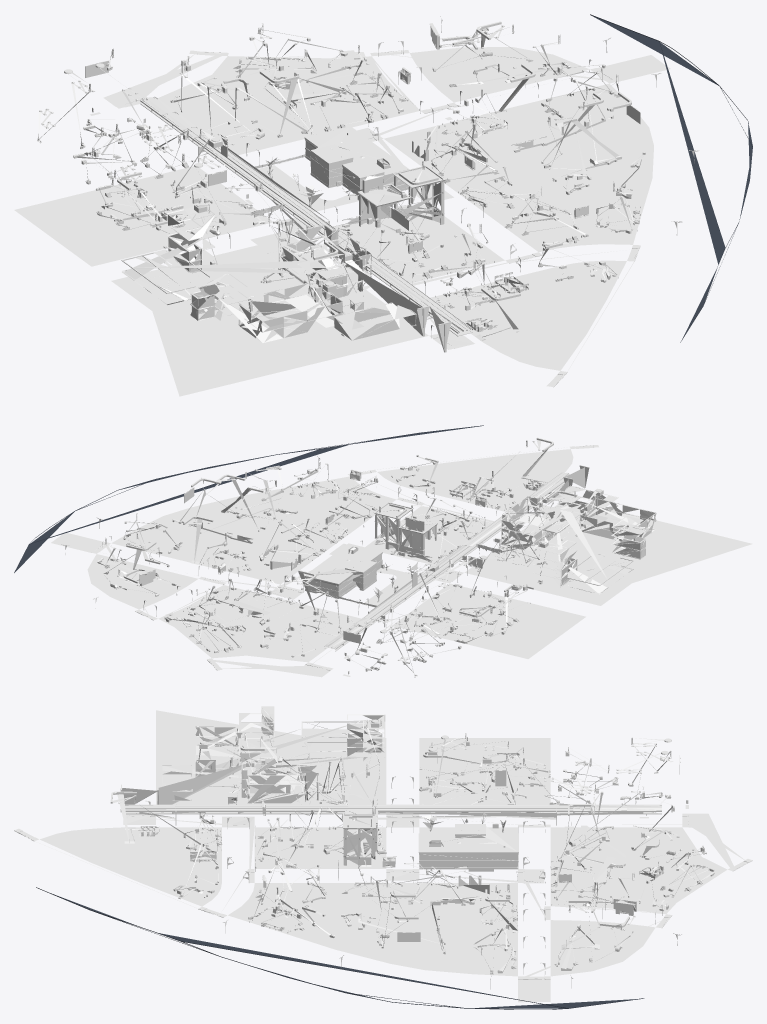
Rendered from street_island2_10.glb.
3 views of the same model, one above another, from view 1: azimuth 30°, elevation 25°; view 2: azimuth 150°, elevation 25°; view 3: azimuth 270°, elevation 25° (orthographic). The views are drawn at different scales.
Visible parts, largest first — view 1: seg_376, seg_854, seg_412, seg_414, seg_375, seg_413, seg_410, seg_409, seg_411, seg_733, seg_944, seg_1014 (+31 smaller); view 2: seg_376, seg_854, seg_414, seg_412, seg_375, seg_410, seg_413, seg_411, seg_733, seg_409, seg_1014, seg_944 (+31 smaller); view 3: seg_412, seg_414, seg_376, seg_854, seg_413, seg_410, seg_375, seg_409, seg_733, seg_411, seg_1014, seg_645 (+32 smaller).
Part boxes in pixels (x1,y1,x2,y2): seg_376: (111,236,428,396); seg_854: (121,207,416,343); seg_412: (384,83,653,195); seg_414: (158,56,419,155); seg_375: (14,166,272,266); seg_413: (430,260,626,370); seg_410: (461,146,653,251); seg_409: (333,204,504,283); seg_411: (410,47,589,102); seg_733: (304,126,409,194); seg_944: (358,165,445,230); seg_1014: (590,14,752,342); seg_376: (464,501,752,605); seg_854: (482,485,656,594); seg_414: (158,585,360,662); seg_412: (111,508,337,584); seg_375: (392,583,585,658); seg_410: (191,476,396,541); seg_413: (377,449,573,511); seg_411: (87,554,198,609); seg_733: (304,543,382,598); seg_409: (365,506,491,564); seg_1014: (14,425,483,572); seg_944: (374,502,437,555); seg_412: (386,883,517,976); seg_414: (550,827,727,914); seg_376: (156,710,386,804); seg_854: (161,706,385,803); seg_413: (40,827,221,906); seg_410: (228,883,390,963); seg_375: (419,738,550,804); seg_409: (254,827,386,868); seg_733: (418,824,518,871); seg_411: (550,920,655,976); seg_1014: (36,887,644,1009); seg_645: (120,732,267,812).
Bounding box in the file's own units: 432 × 42.17 × 449.
